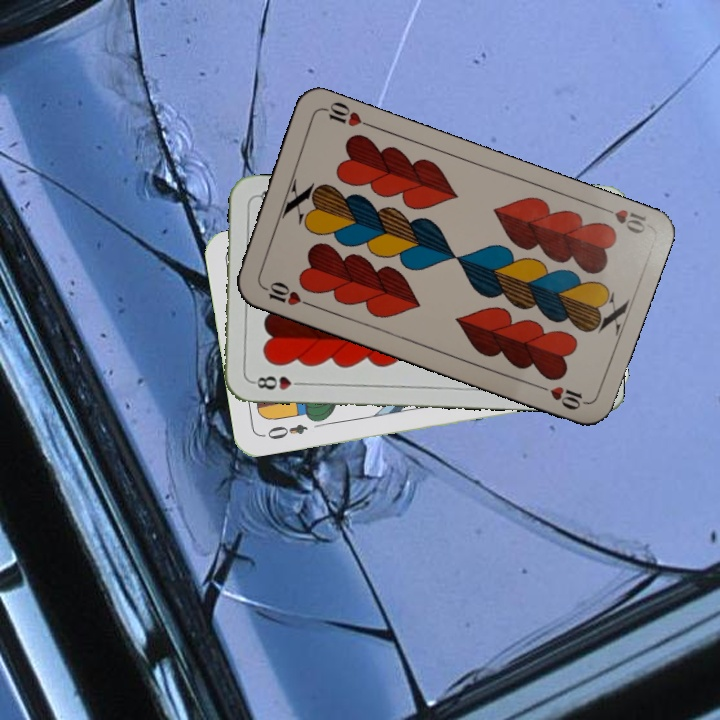EO: (258, 420, 310, 442)
H10: (594, 201, 650, 237), (256, 277, 314, 309)
H8: (248, 372, 307, 392)
